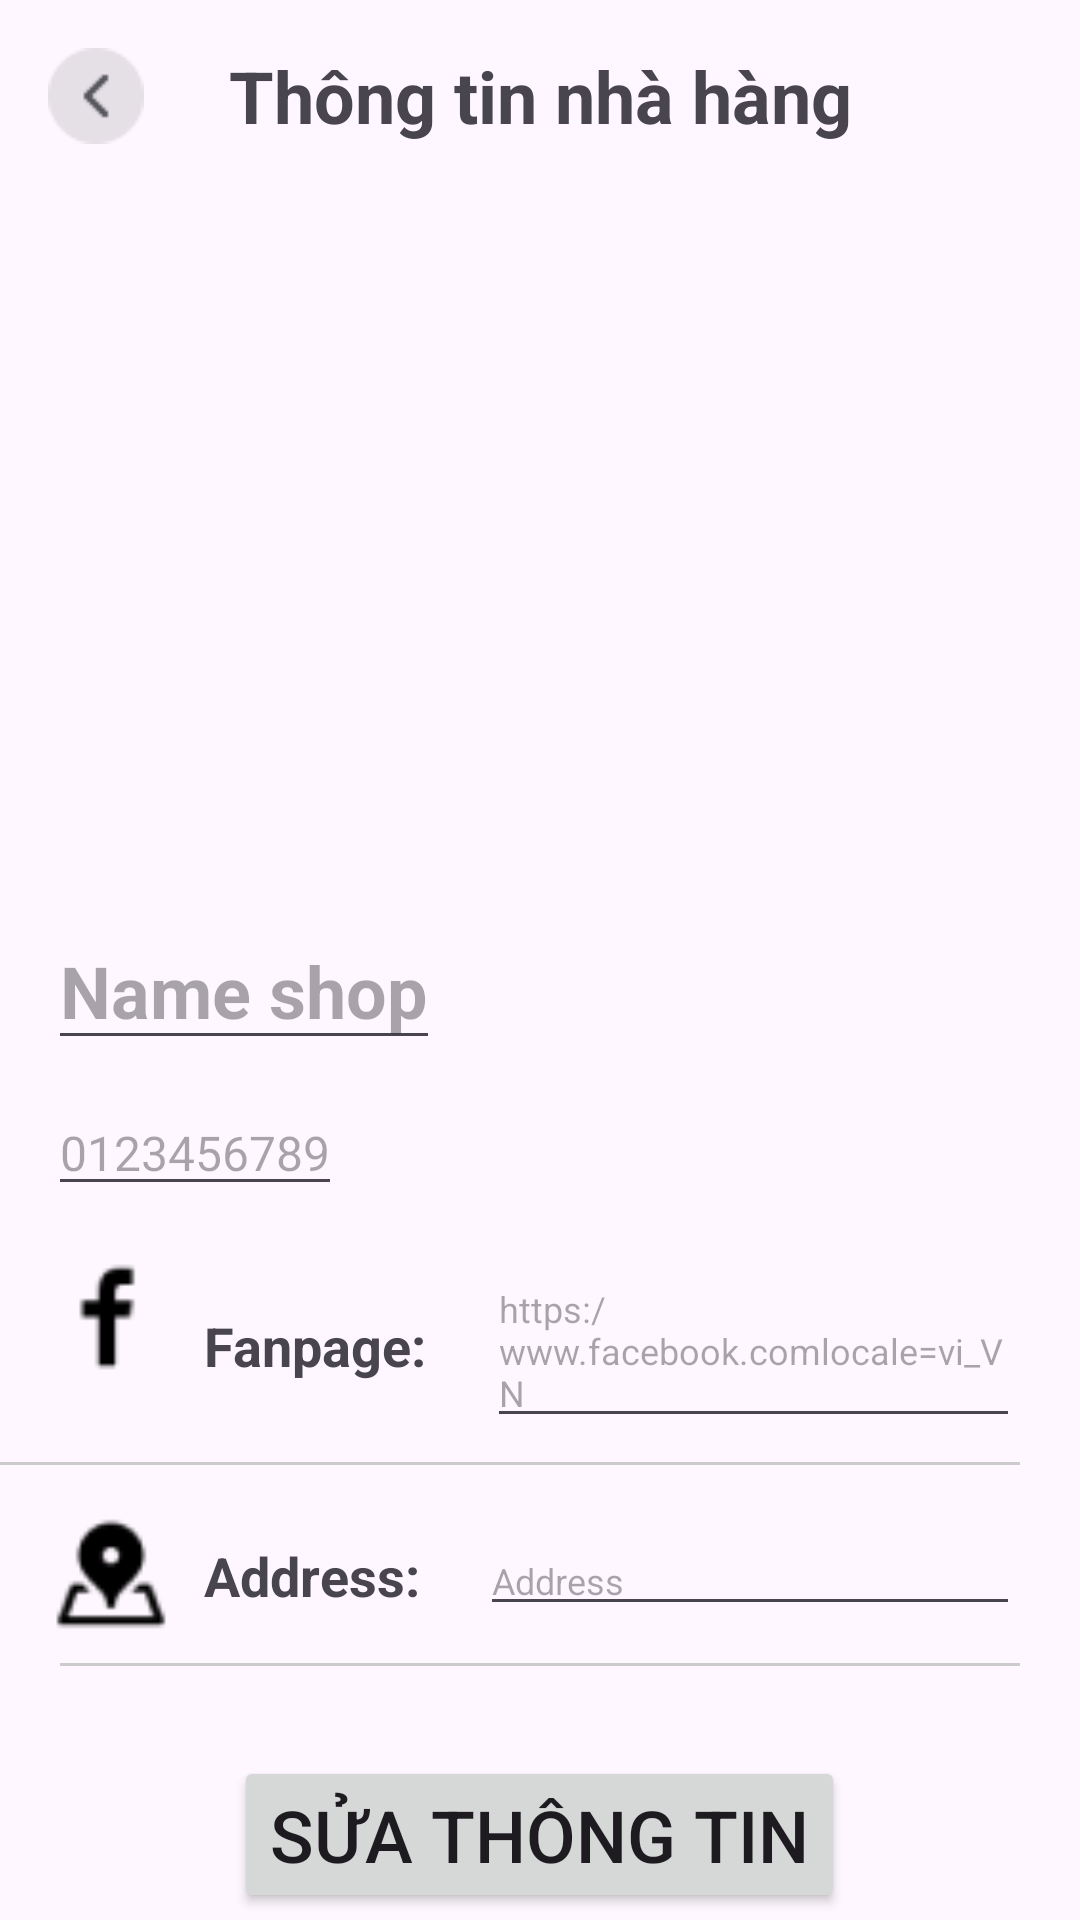

Icon bounding boxes for this 1080x1920 phone screenshot, format (x1, y1, x2, y2):
backphap: (48, 48, 144, 144)
